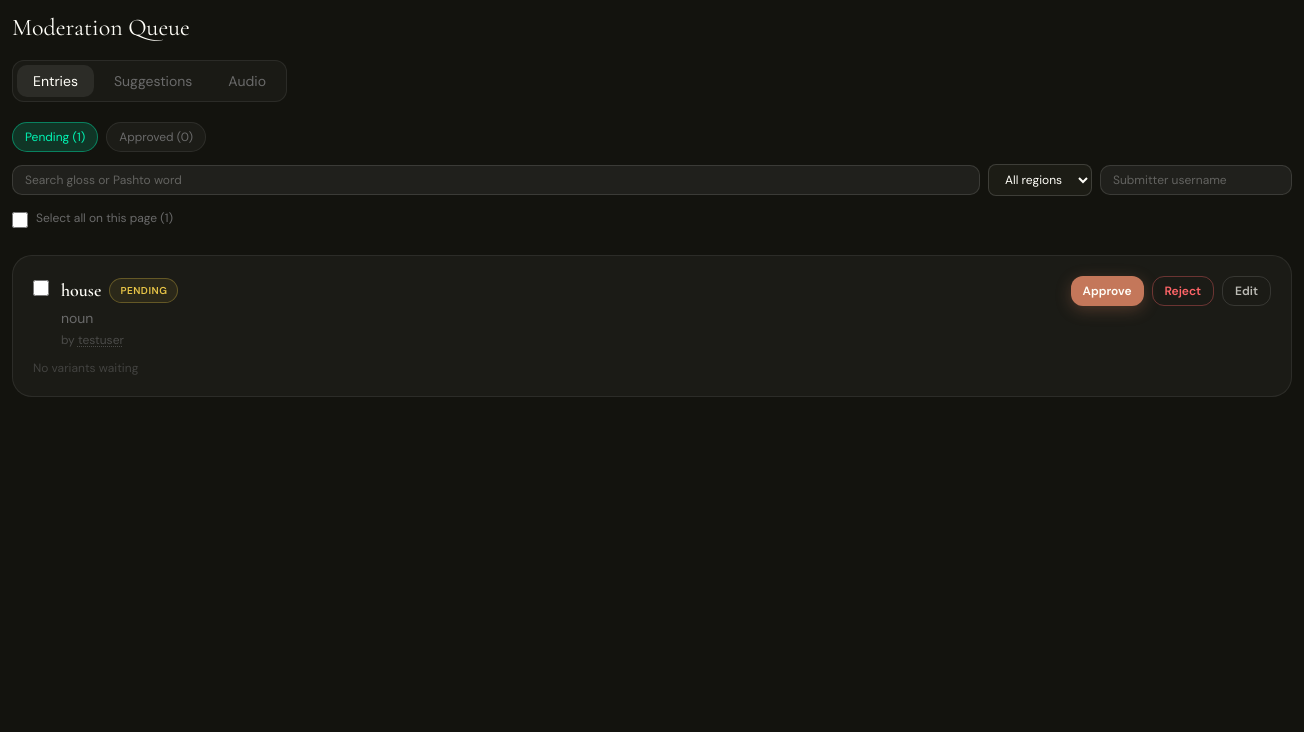
it: Inline edit form — Concepts tab › disables the edit form submit button when the note field is empty
The image size is (1304, 732).
Click the button "Edit" at [1247, 291], box [1222, 276, 1271, 306]
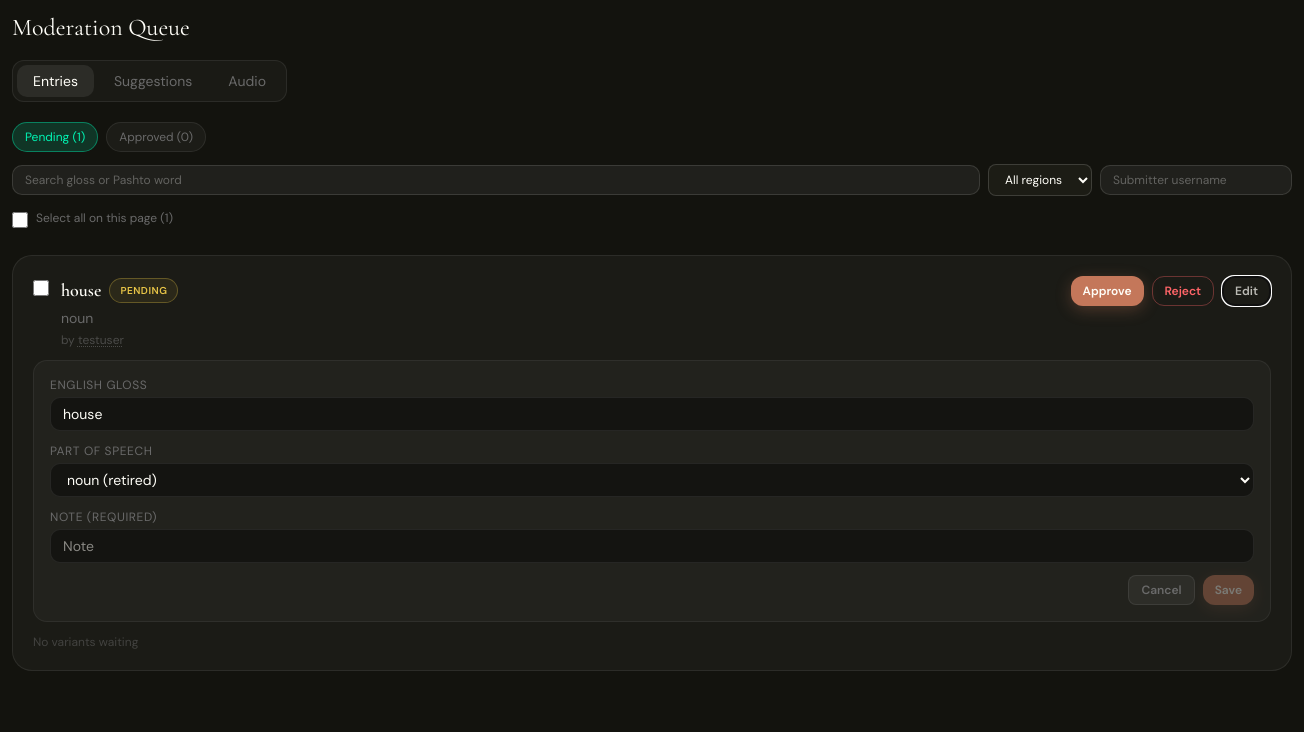
expect the button "Save" is disabled: met, box [1203, 575, 1254, 605]
